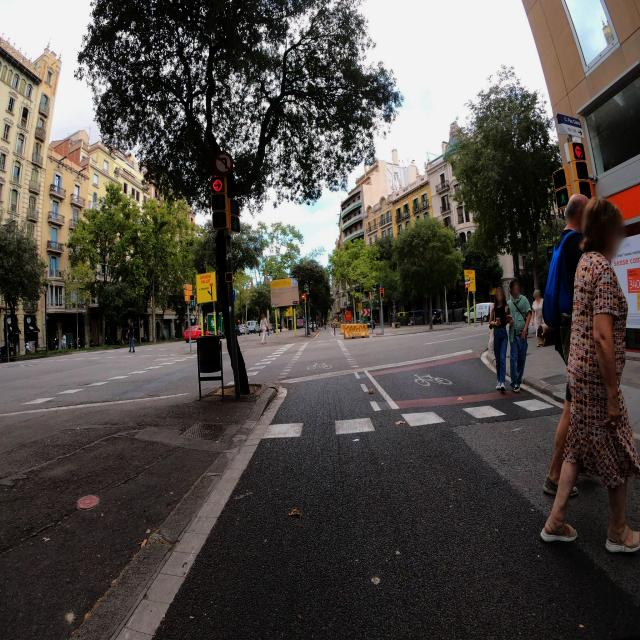car: (466, 302, 495, 323), (184, 325, 202, 342), (407, 310, 425, 326), (246, 321, 260, 333), (237, 322, 248, 334), (296, 315, 305, 328)
